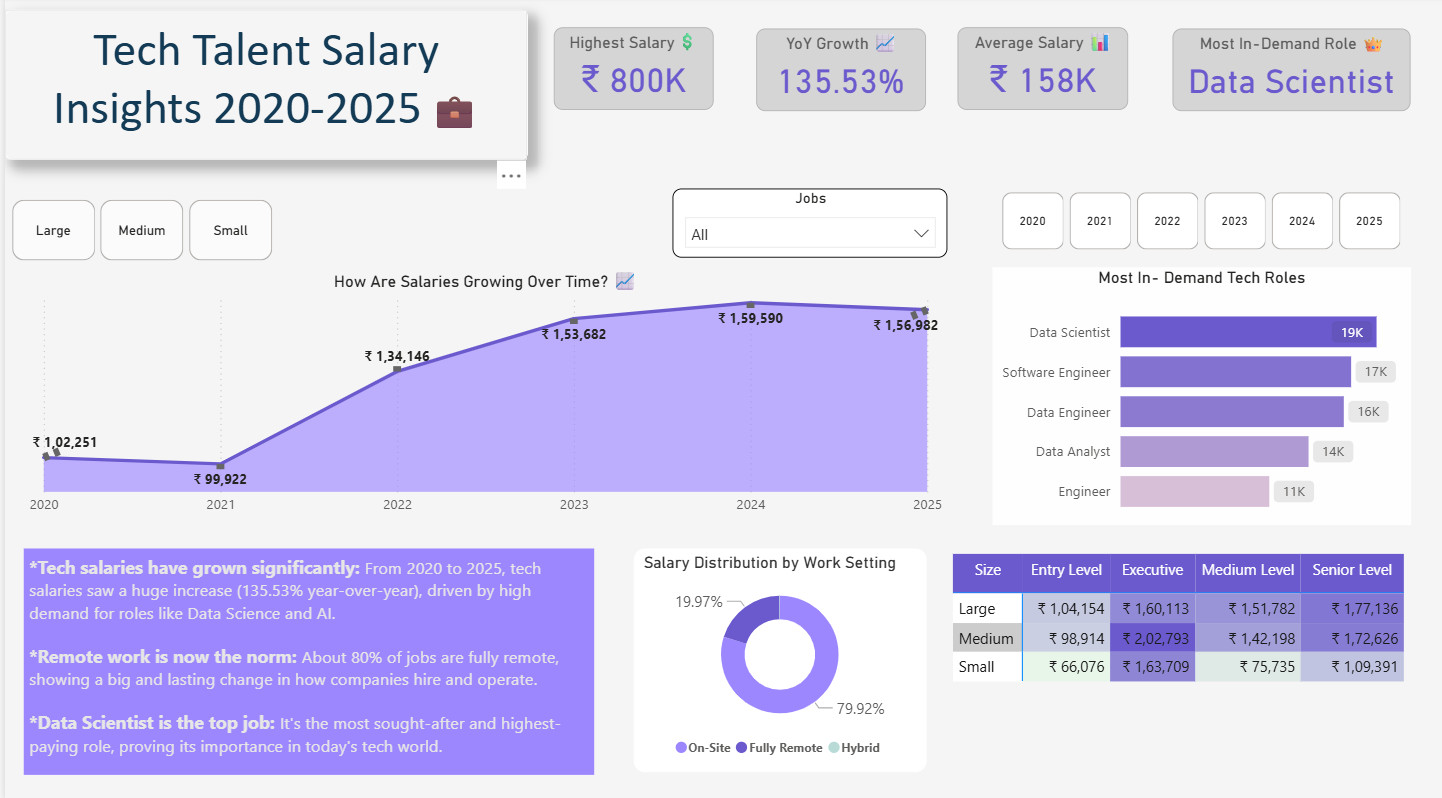

The dashboard page shown, as its layout file describes it:
{"tool":"powerbi","page":{"name":"Dashboard","canvas":[1280,720],"ordinal":0},"visuals":[{"type":"card","title":"Highest Salary💲","fields":{"Values":["salaries.Highest Salary"]},"box":[488.6,27.7,142.4,73.6],"z":0},{"type":"card","title":"Average Salary 📊","fields":{"Values":["salaries.Average salary"]},"box":[848.1,27.7,152,73.6],"z":1000},{"type":"card","title":"YoY Growth 📈","fields":{"Values":["salaries.Salary YoY Growth %"]},"box":[669.6,29,150.8,73.6],"z":2000},{"type":"card","title":"Most In-Demand Role 👑","fields":{"Values":["salaries.MostPopularRole"]},"box":[1040,29,212.3,73.6],"z":3000},{"type":"pivotTable","fields":{"Rows":["salaries.Size"],"Columns":["salaries.Experience"],"Values":["salaries.Average salary"]},"box":[839.7,492.2,418.6,158],"z":4000},{"type":"lineChart","title":"How Are Salaries Growing Over Time? 📈","fields":{"Category":["salaries.work_year"],"Y":["salaries.Average salary"]},"box":[16.9,241.3,822.8,229.2],"z":5000},{"type":"donutChart","title":"Salary Distribution by Work Setting","fields":{"Category":["salaries.JobType"],"Y":["salaries.Total Salary"]},"box":[559.8,492.2,260.6,199.1],"z":6000},{"type":"barChart","title":"Most In- Demand Tech Roles","fields":{"Category":["salaries.job_title"],"Y":["salaries.Job counts"]},"box":[879.5,241.3,372.8,229.2],"z":7000},{"type":"textbox","box":[0,12.1,465.7,133.9],"z":8000},{"type":"textbox","box":[16.9,492.2,507.9,201.5],"z":9000},{"type":"advancedSlicerVisual","title":"🗓️","fields":{"Values":["salaries.work_year"]},"box":[881.6,174.8,369.6,57.9],"z":10000},{"type":"slicer","title":"Jobs","fields":{"Values":["salaries.job_title"]},"box":[594.8,171.3,244.9,61.5],"z":11000},{"type":"advancedSlicerVisual","title":"Company 🏢","fields":{"Values":["salaries.Size"]},"box":[0,181,244.9,60.3],"z":12000}]}

Visuals, with their boxes in screenshot pixels (x1, y1, x2, y2), scaled from the page's 1280x720 canvas onto the 1442x798 screenshot:
"Highest Salary💲" card: {"x1": 550, "y1": 31, "x2": 711, "y2": 112}
"Average Salary 📊" card: {"x1": 955, "y1": 31, "x2": 1127, "y2": 112}
"YoY Growth 📈" card: {"x1": 754, "y1": 32, "x2": 924, "y2": 114}
"Most In-Demand Role 👑" card: {"x1": 1172, "y1": 32, "x2": 1411, "y2": 114}
pivotTable - salaries.Size x salaries.Experience: {"x1": 946, "y1": 546, "x2": 1418, "y2": 721}
"How Are Salaries Growing Over Time? 📈" lineChart: {"x1": 19, "y1": 267, "x2": 946, "y2": 521}
"Salary Distribution by Work Setting" donutChart: {"x1": 631, "y1": 546, "x2": 924, "y2": 766}
"Most In- Demand Tech Roles" barChart: {"x1": 991, "y1": 267, "x2": 1411, "y2": 521}
textbox: {"x1": 0, "y1": 13, "x2": 525, "y2": 162}
textbox: {"x1": 19, "y1": 546, "x2": 591, "y2": 769}
"🗓️" advancedSlicerVisual: {"x1": 993, "y1": 194, "x2": 1410, "y2": 258}
"Jobs" slicer: {"x1": 670, "y1": 190, "x2": 946, "y2": 258}
"Company 🏢" advancedSlicerVisual: {"x1": 0, "y1": 201, "x2": 276, "y2": 267}
